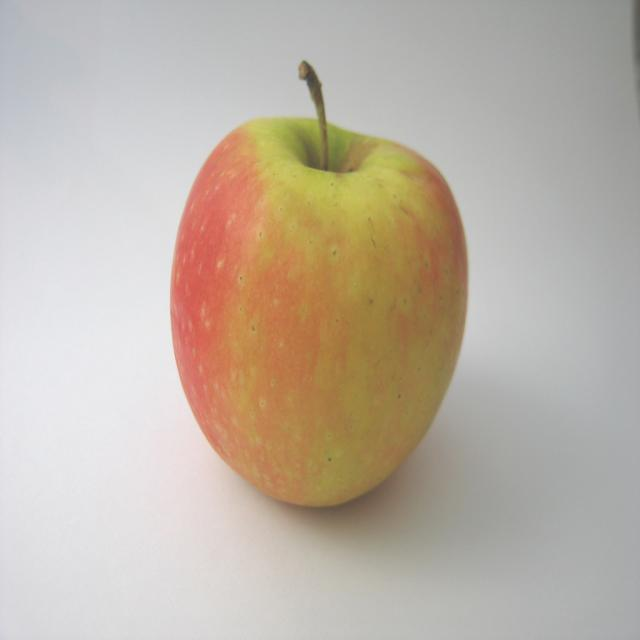Apple: (168, 58, 470, 510)
